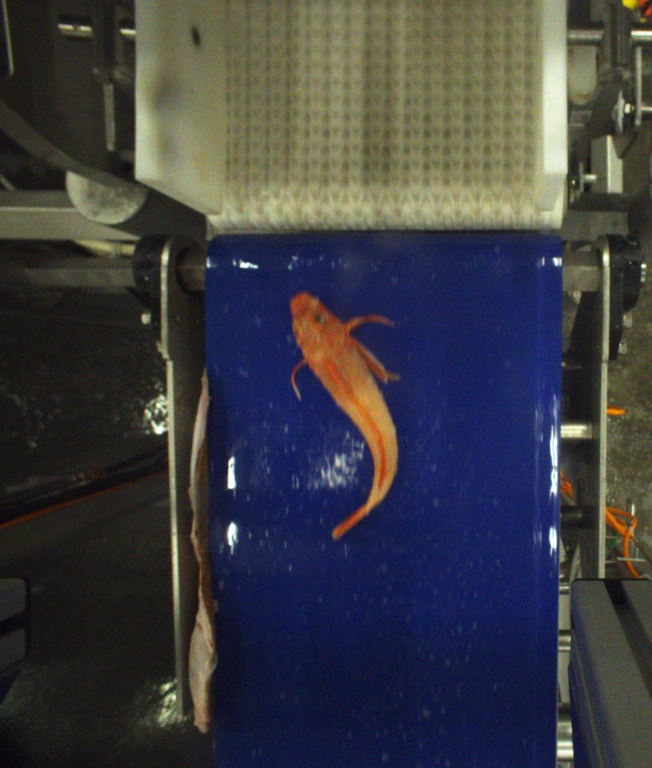GUU: (286, 290, 399, 546)
